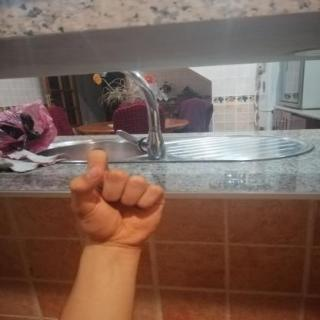FAA: (56, 140, 174, 255)
